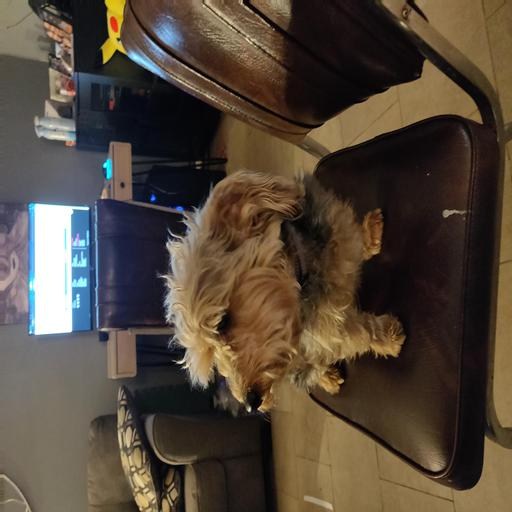dog: (157, 167, 410, 420)
